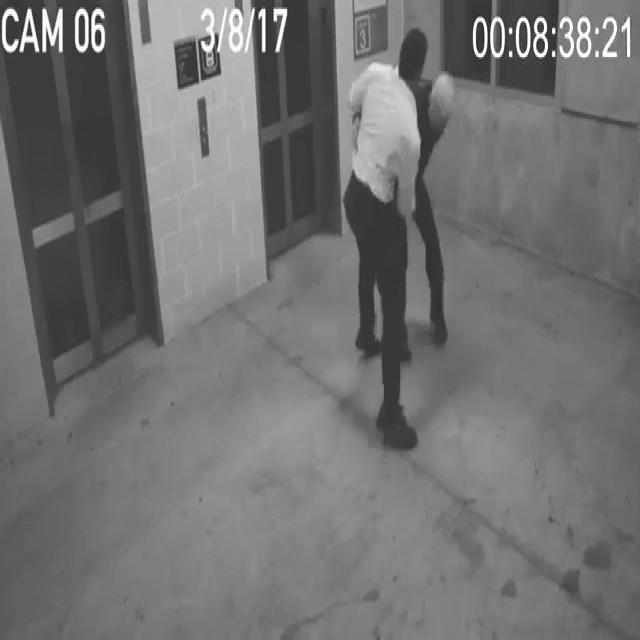fight: (346, 26, 456, 462)
